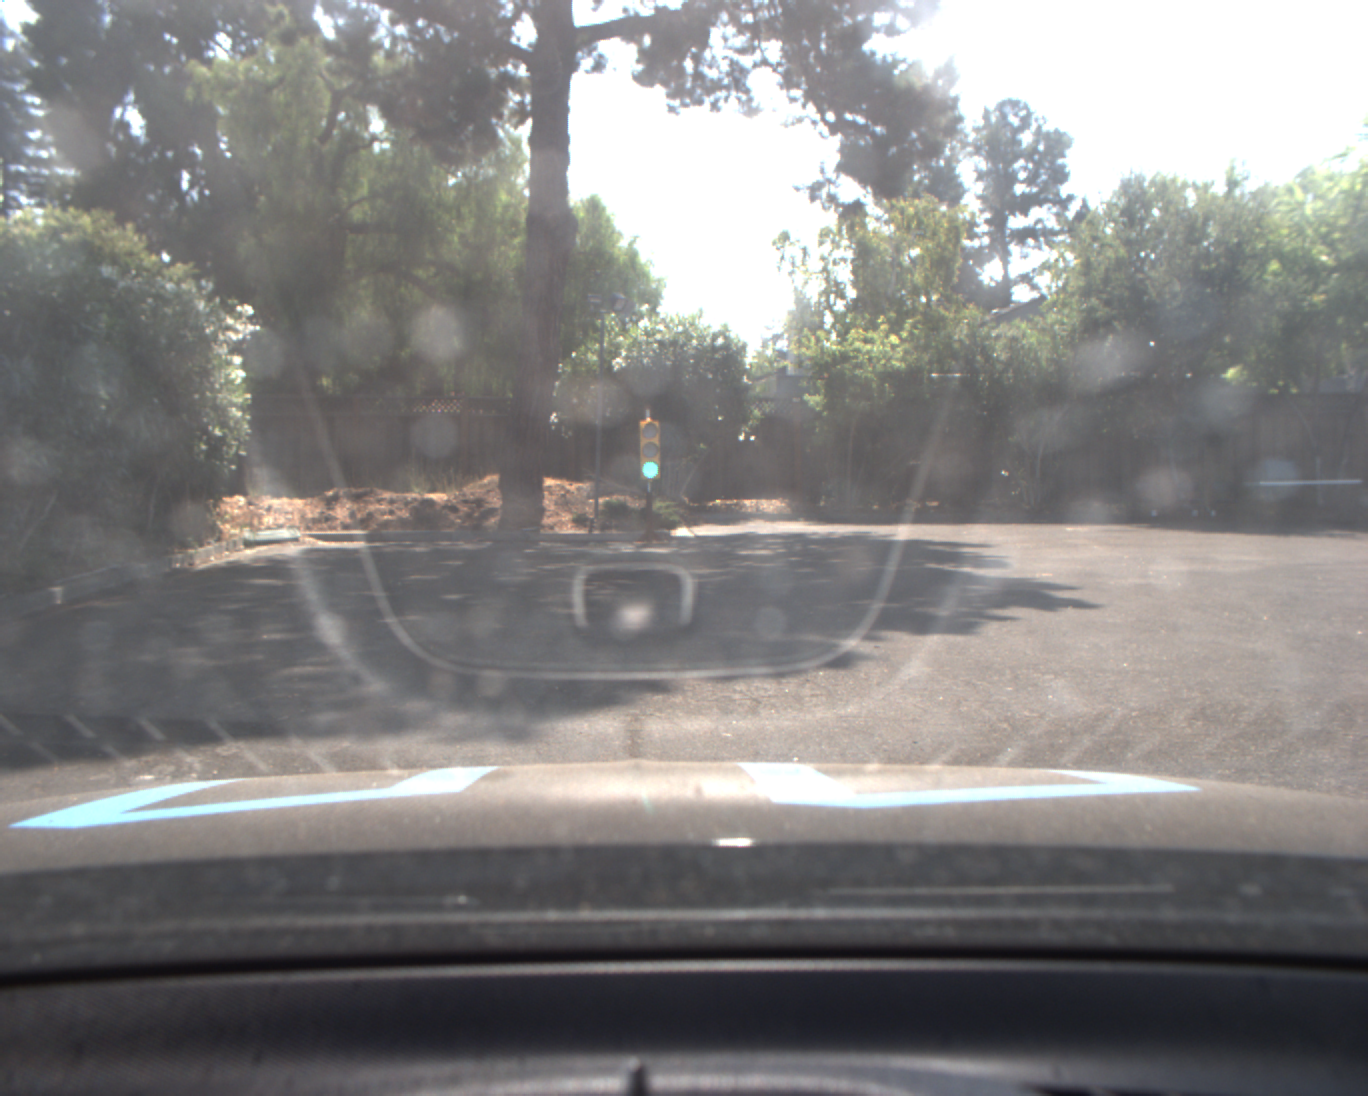green: (636, 416, 663, 480)
